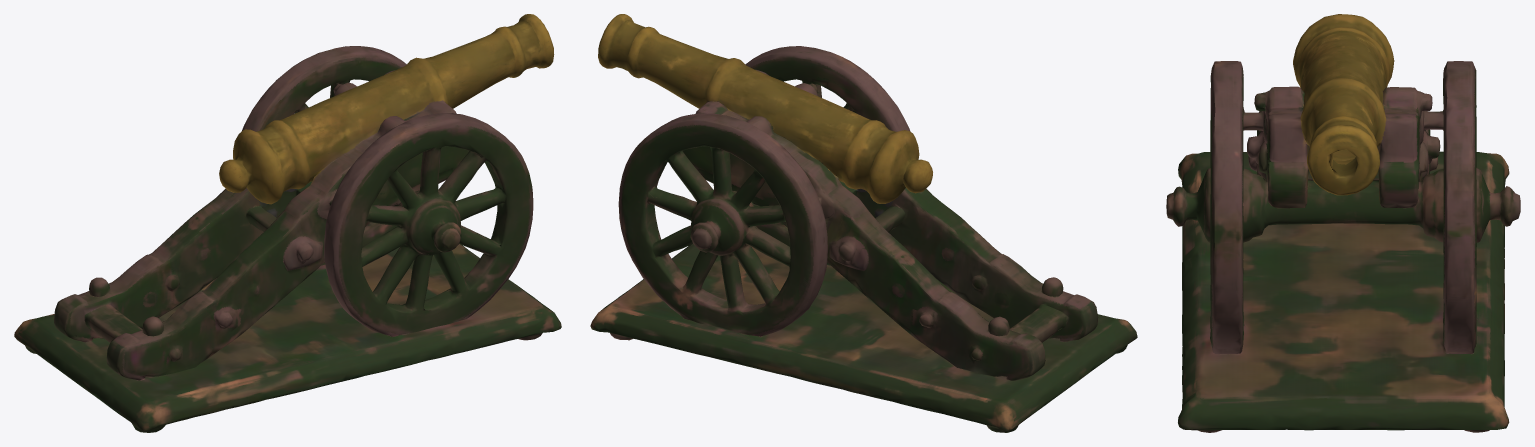
File: cannon.glb
The picture shows the model from 3 angles, left to right: view 1: azimuth 30°, elevation 25°; view 2: azimuth 150°, elevation 25°; view 3: azimuth 270°, elevation 25°; orthographic projection. The views are drawn at different scales.
Visible parts, largest first — view 1: world; view 2: world; view 3: world.
Part boxes in pixels (x1,y1,x2,y2): world: (14,14,561,432); world: (590,14,1137,432); world: (1166,14,1520,432).
Bounding box in the file's own units: 1 × 0.5452 × 0.5191.
1 material, 1 textured.
